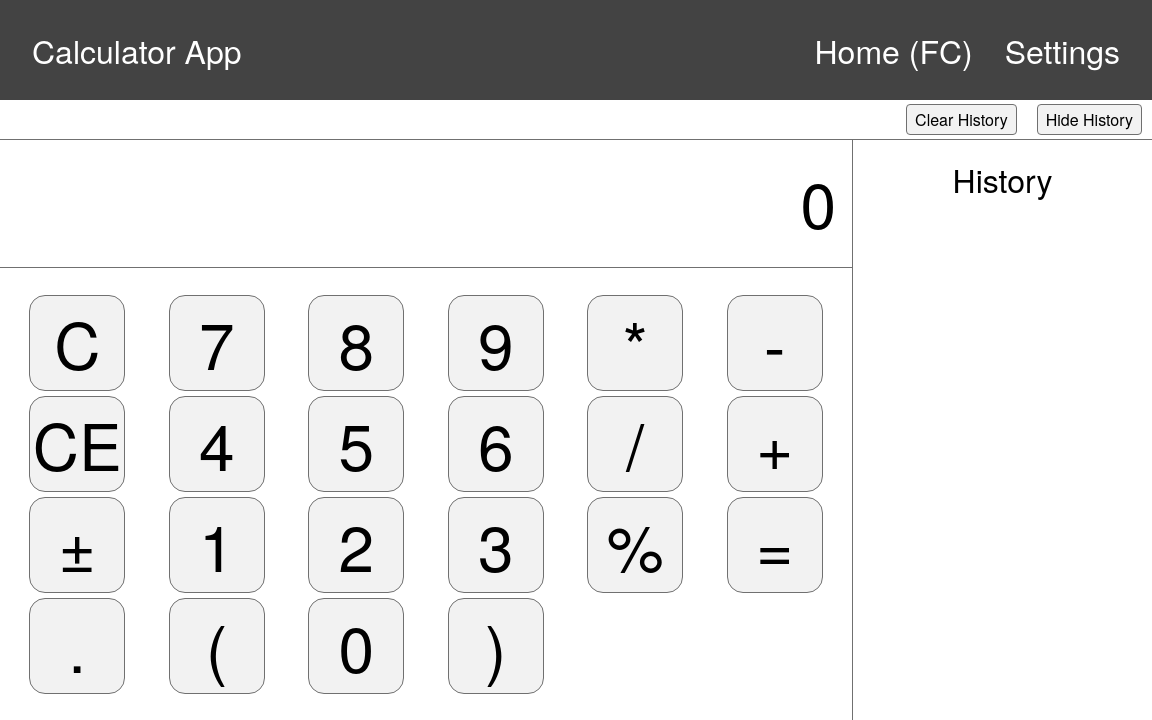
Test case: calculator › should clear history
What coordinates should you click on to do the following:
click the button "5"
I would click on:
 (356, 444)
Its box is [308,396,404,492].
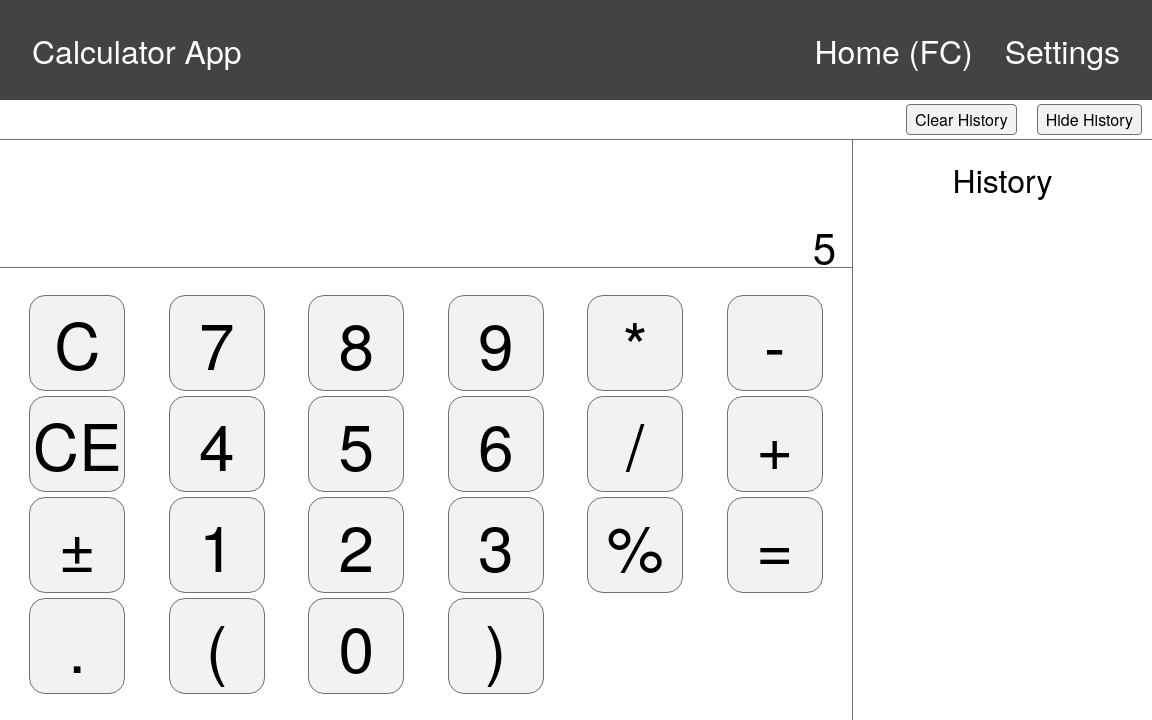
What coordinates should you click on to do the following:
click the button "-"
I would click on:
 (775, 343)
Its box is [727,295,823,391].
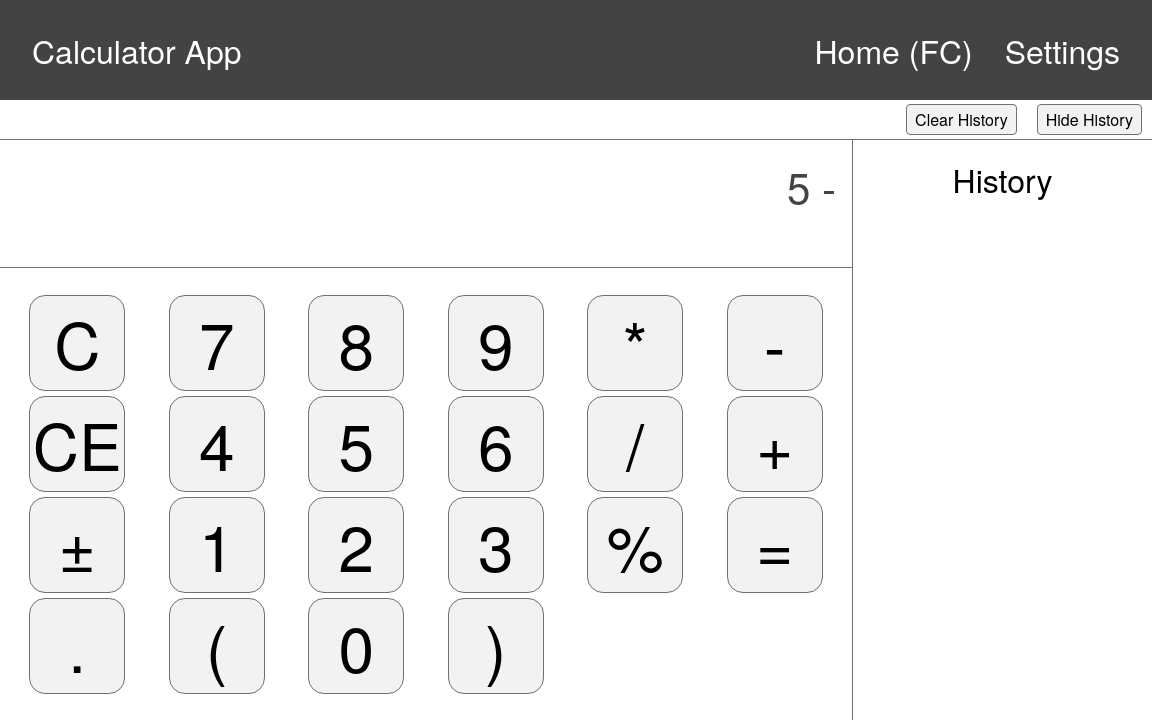
What coordinates should you click on to do the following:
click the button "5"
I would click on:
 (356, 444)
Its box is [308,396,404,492].
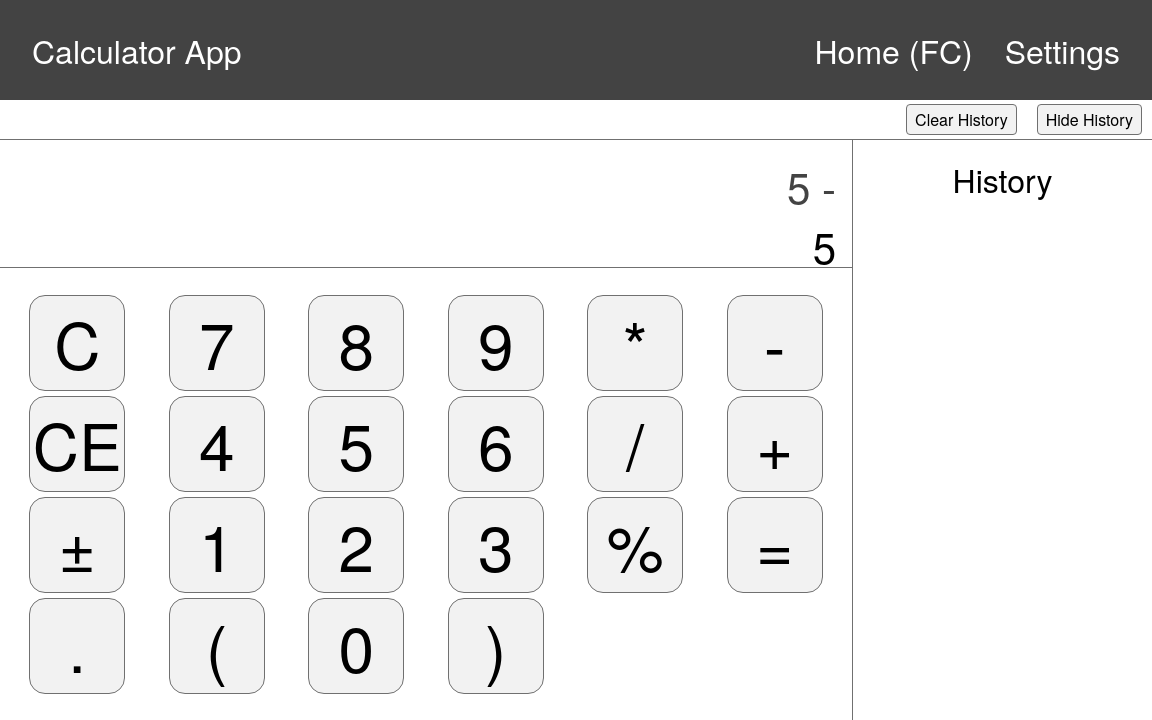
What coordinates should you click on to do the following:
click the button "="
I would click on:
 (775, 545)
Its box is [727,497,823,593].
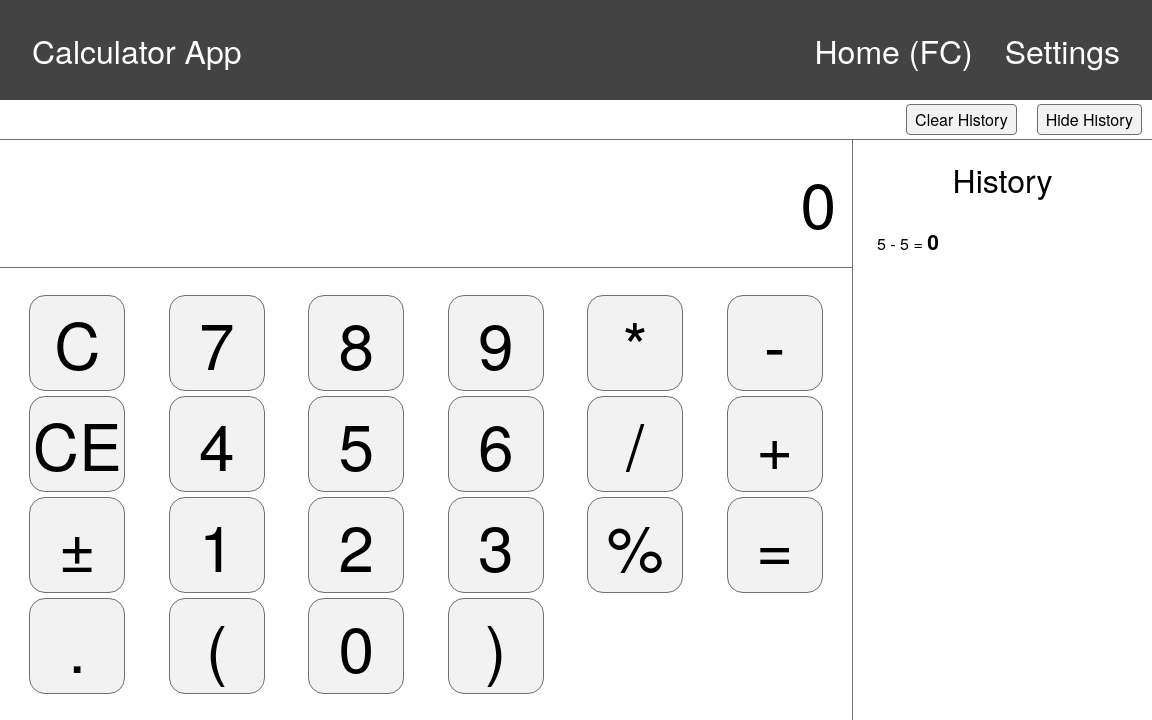
What coordinates should you click on to do the following:
click the button named "clearHistory"
I would click on:
 (962, 120)
Its box is [906,104,1017,135].
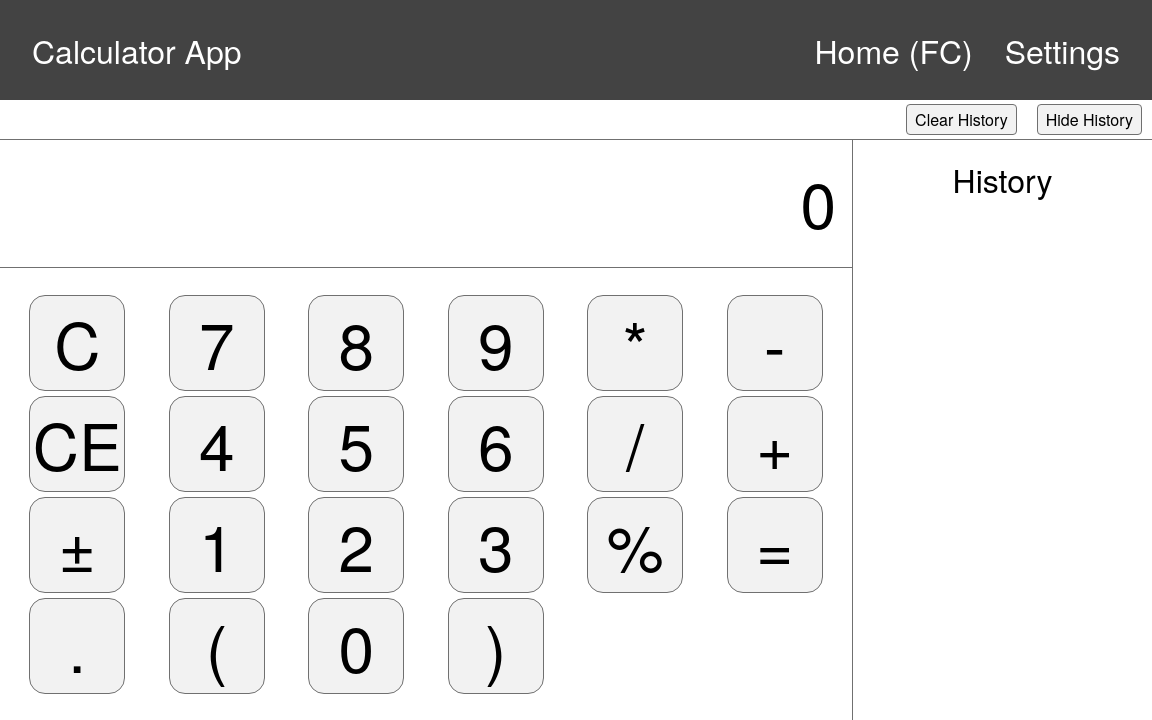
Check: the text "5 - 5 = 0" is gone
